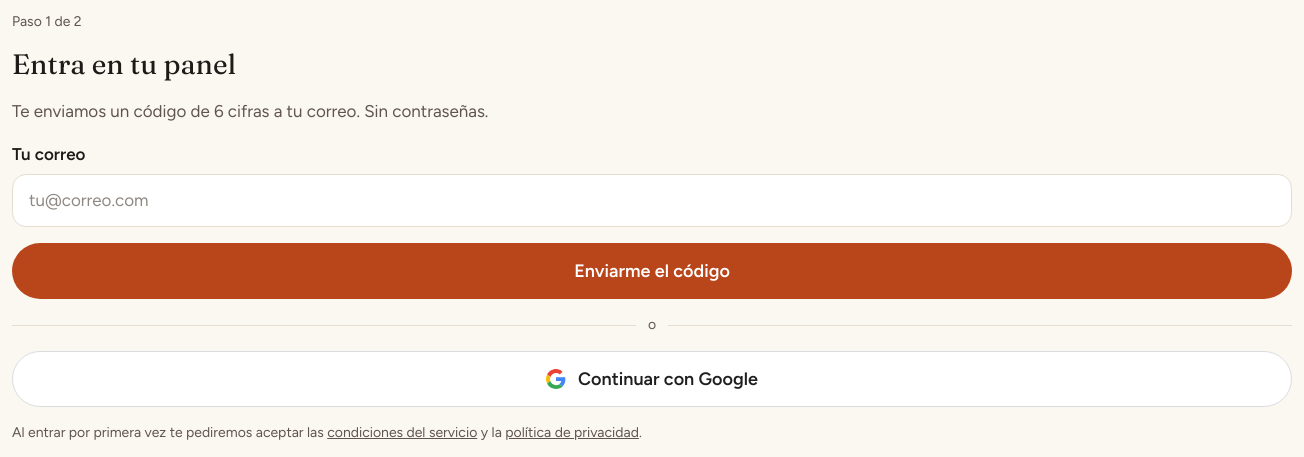
Test case: FormularioEntrar › «Reenviar código» vuelve a pedirlo para el mismo correo
Type "Bar@x.es" into the field labelled "Tu correo".
click(652, 201); type("Bar@x.es")  # box left=12, top=174, right=1292, bottom=227
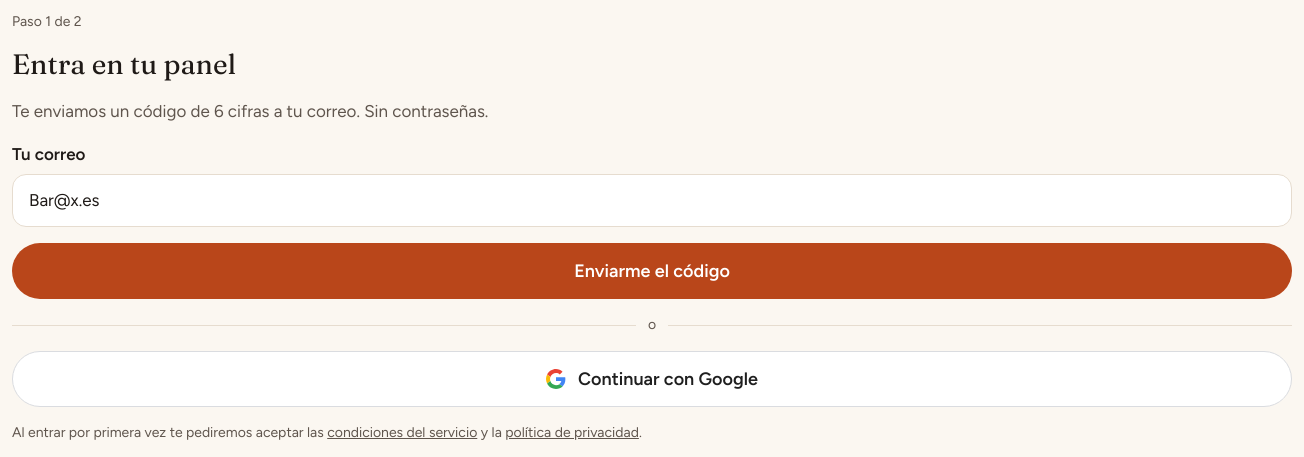
Click the button "Enviarme el código".
click(652, 271)  # box left=12, top=243, right=1292, bottom=299
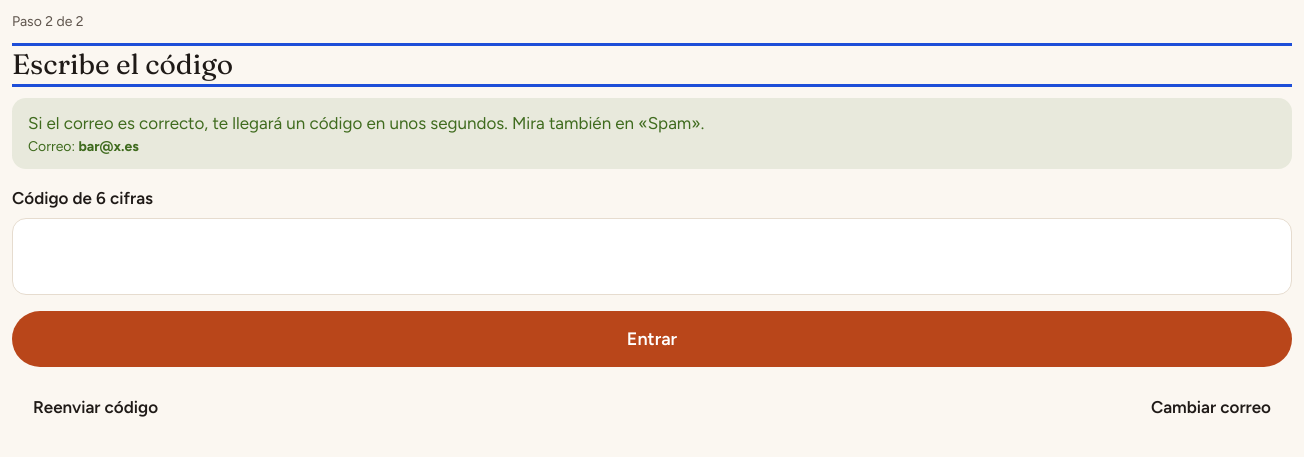
Expected: the button "Reenviar código" is shown
Click the button "Reenviar código".
click(96, 407)  # box left=12, top=383, right=179, bottom=431
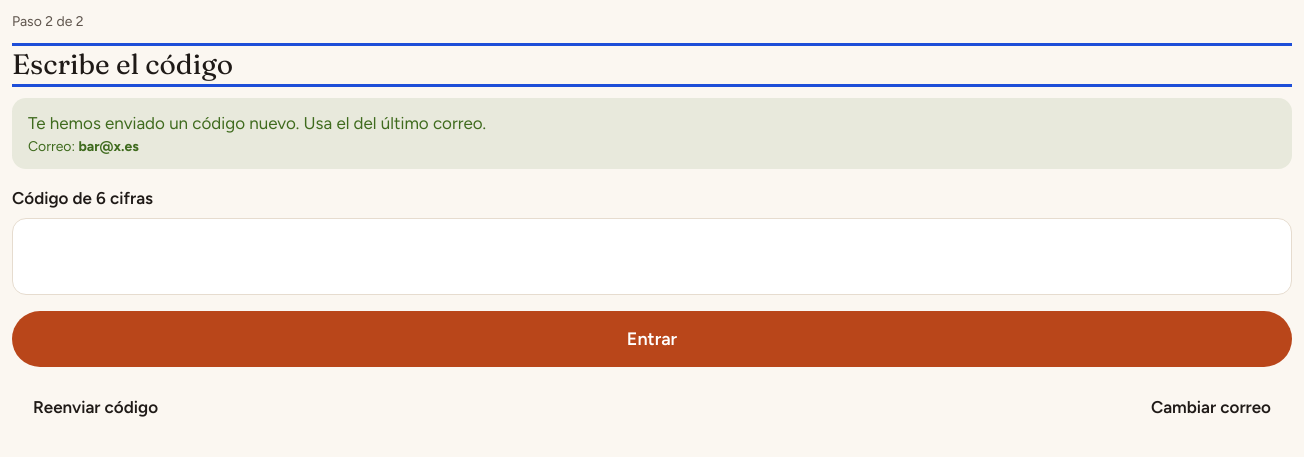
Expected: the text "bar@x.es" is shown, left=78, top=138, right=139, bottom=155
Expected: the message shows "código nuevo", left=28, top=113, right=486, bottom=133
